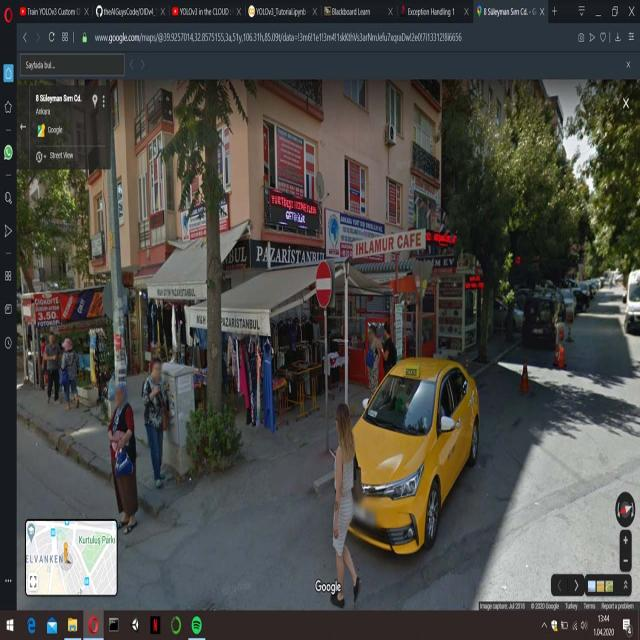girisyok: (314, 260, 332, 310)
